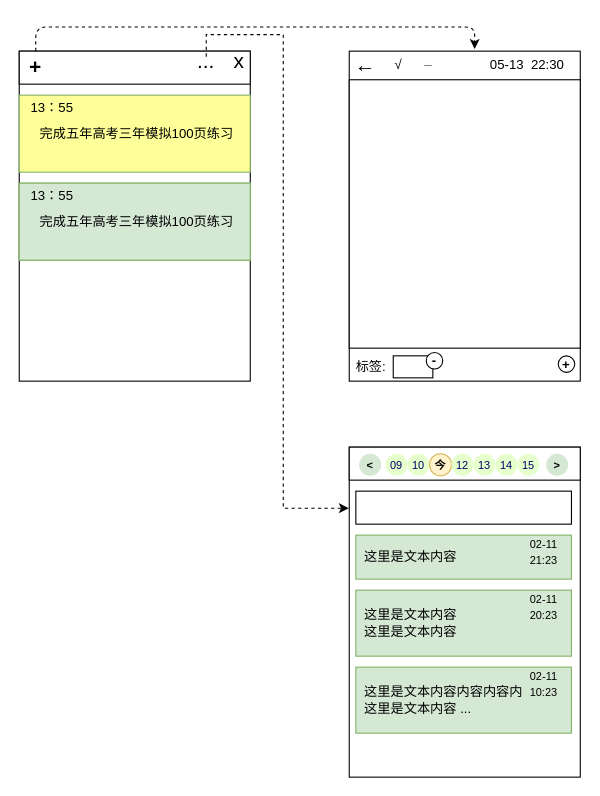
This 600x796 diagram has some shape labels left out. The shapes that lost their labels are listed below. From the top down, each one's centre as x and y in pixels, then its label:
At (x=412, y=366): "日常".
At (x=463, y=507): "搜索".
